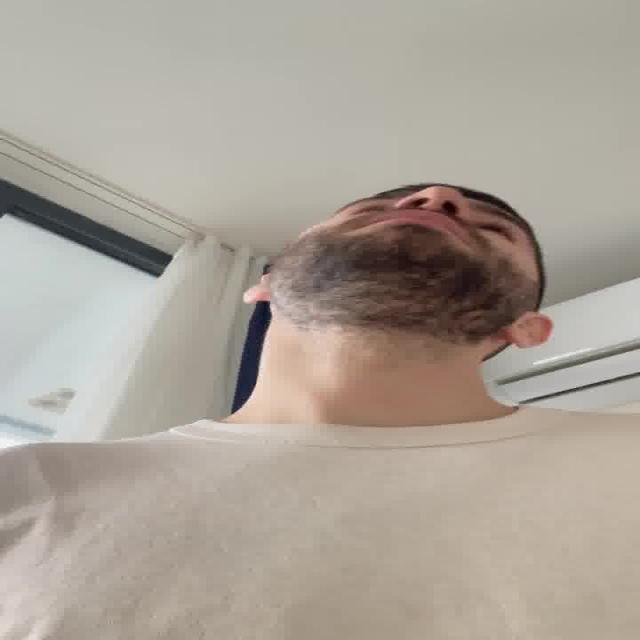earlobe: (497, 329, 534, 352), (234, 287, 277, 306)
eye: (468, 216, 532, 242), (347, 203, 396, 214)
nose: (396, 199, 468, 219)
wholeear: (504, 312, 554, 351)
